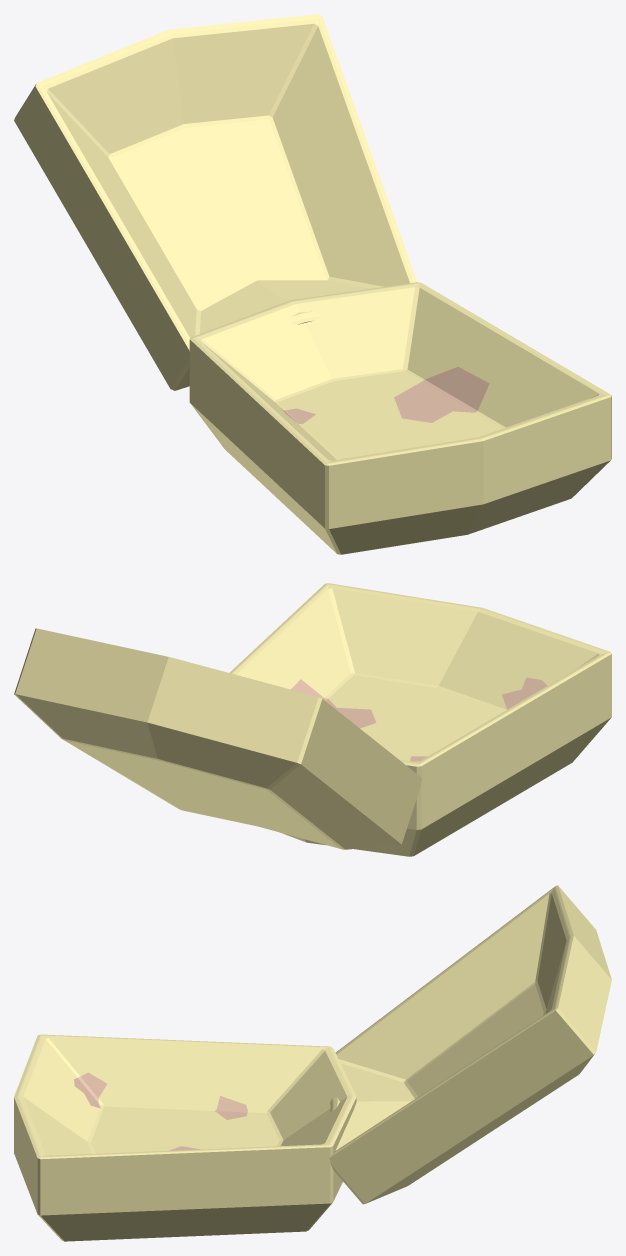
The model's file is Burg Box.fbx.
The picture shows the model from 3 angles, top to bottom: view 1: azimuth 30°, elevation 25°; view 2: azimuth 150°, elevation 25°; view 3: azimuth 270°, elevation 25°; orthographic projection. The views are drawn at different scales.
Parts seen in each view (by area): view 1: Burg Box Lid, Burg Box Bottom; view 2: Burg Box Bottom, Burg Box Lid; view 3: Burg Box Bottom, Burg Box Lid.
Boxes of the visible parts, box(x1,y1,x2,y2) form: Burg Box Lid: box(14, 14, 417, 390); Burg Box Bottom: box(189, 282, 611, 554); Burg Box Bottom: box(229, 583, 611, 856); Burg Box Lid: box(14, 628, 421, 849); Burg Box Bottom: box(14, 1034, 356, 1241); Burg Box Lid: box(329, 885, 611, 1204).
Size of the model in its own units: 126 by 120 by 254.
